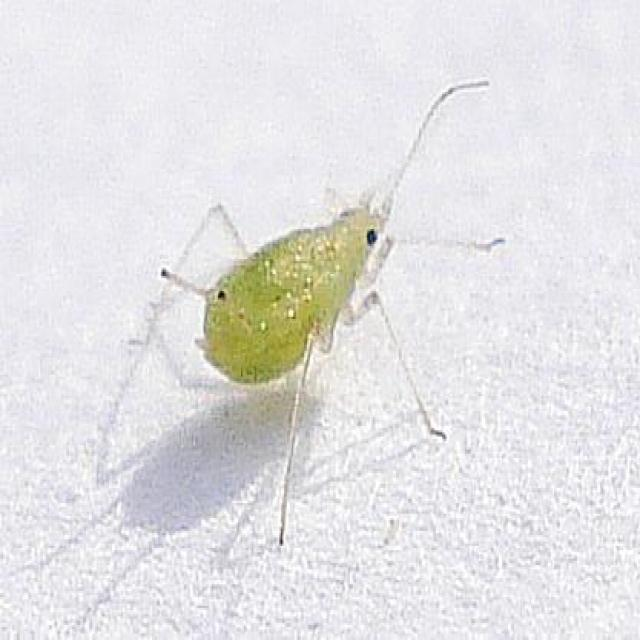aphid: (133, 88, 479, 533)
